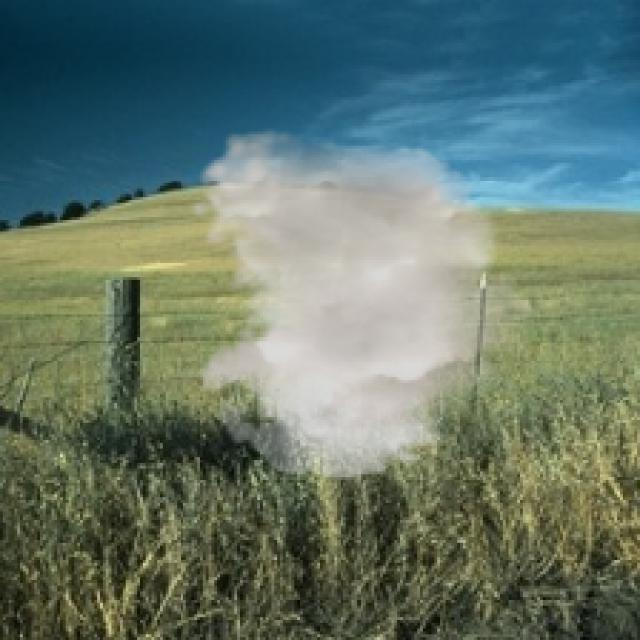smoke: (188, 129, 546, 480)
